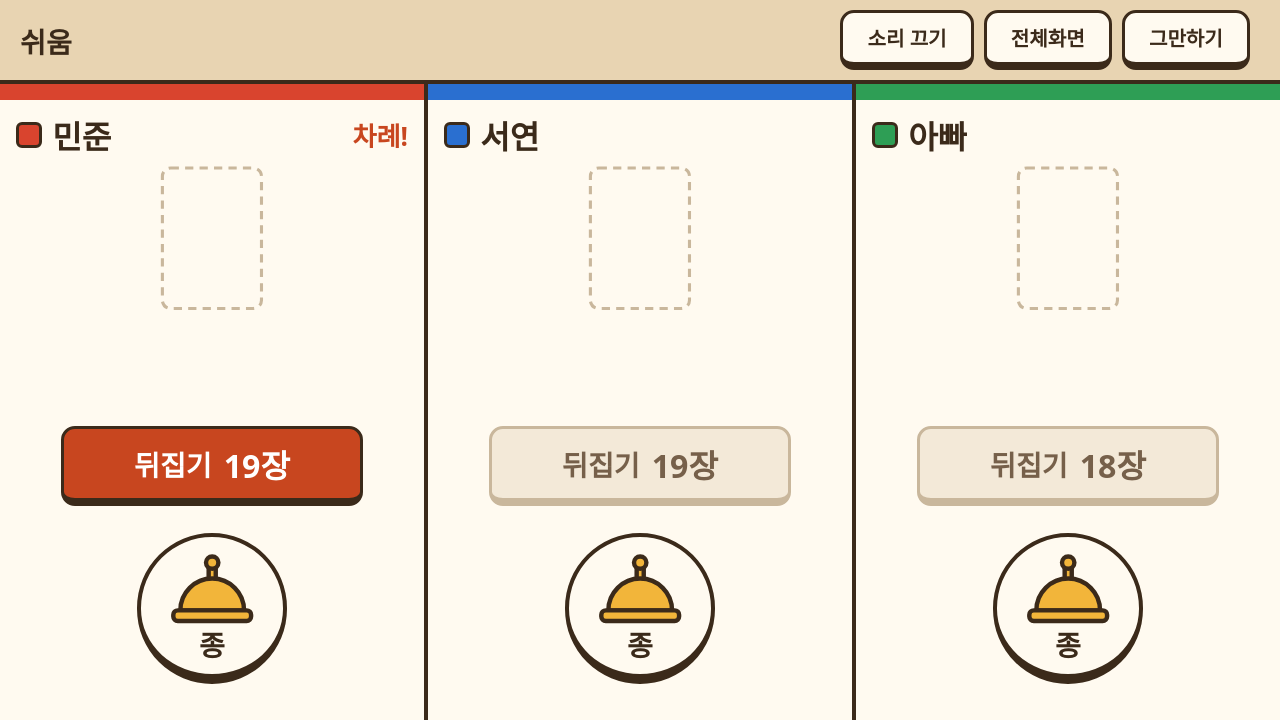
Test: BellMatch › 칸마다 뒤집기·종이 있고 처음에는 0번만 뒤집을 수 있다
Expected: the number of elements with test id "player-column" is 3, [0,84,428,719]; [428,84,856,719]; [856,84,1279,719]
Press the mouse on the button "뒤집기 19장" below "민준" at (212, 466), box [61,426,363,506]
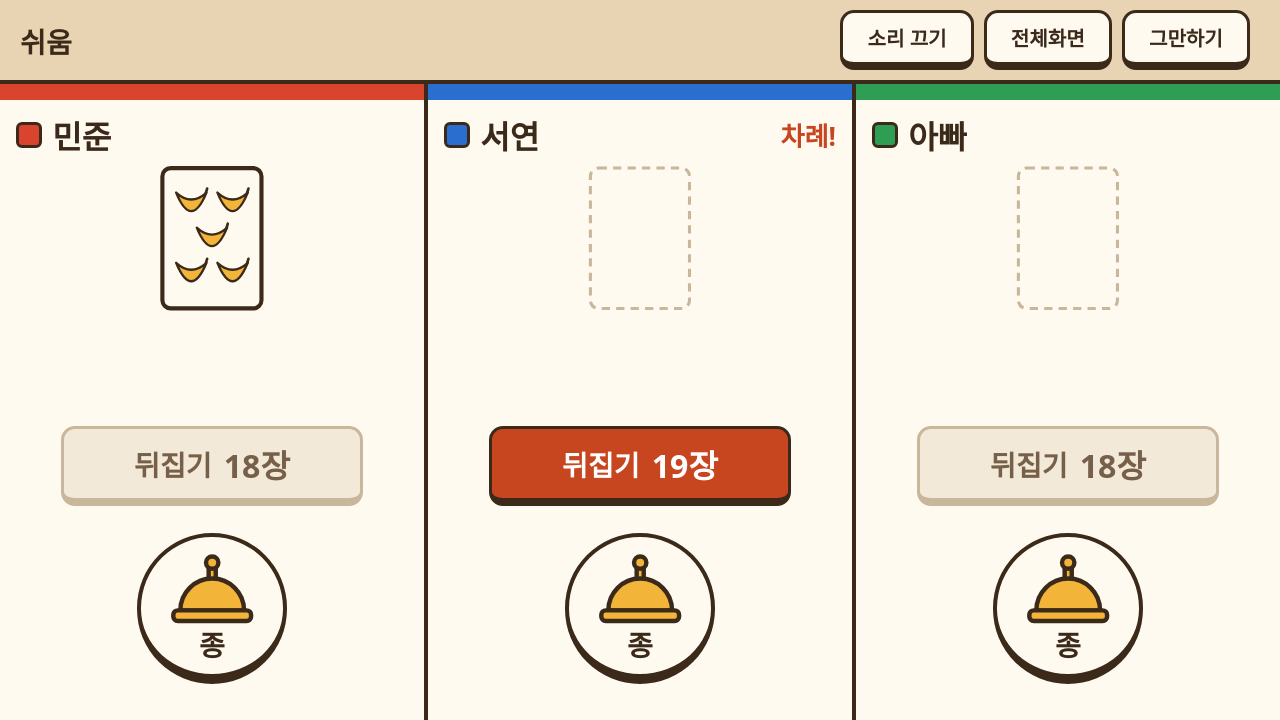
Expected: the text "차례!" is shown, [780,118,836,154]
Now the icon with test id "fruit-card" is shown, box [16,166,408,311]
